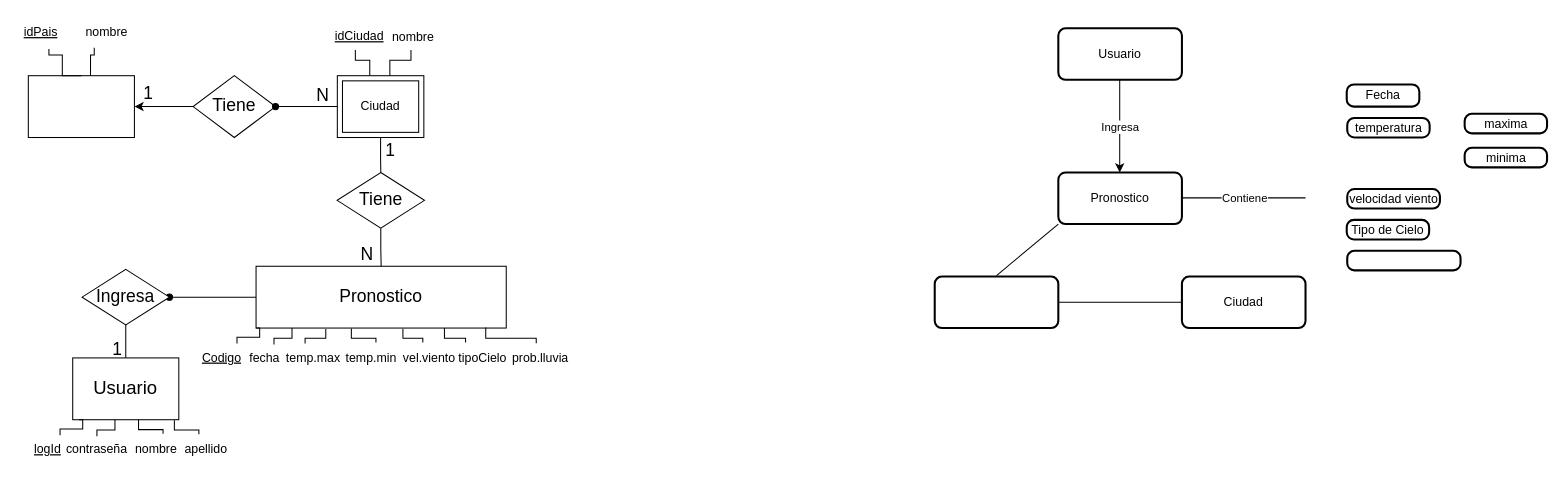
The diagram is 1566 pixels wide and 486 high, and some of its shapes have lost their labels. Each missing label, with the centre of its shape:
"Pais" goes at pixel 996 302.
"País" goes at pixel 80 106.
"Probabilidad Lluvia" goes at pixel 1403 260.
